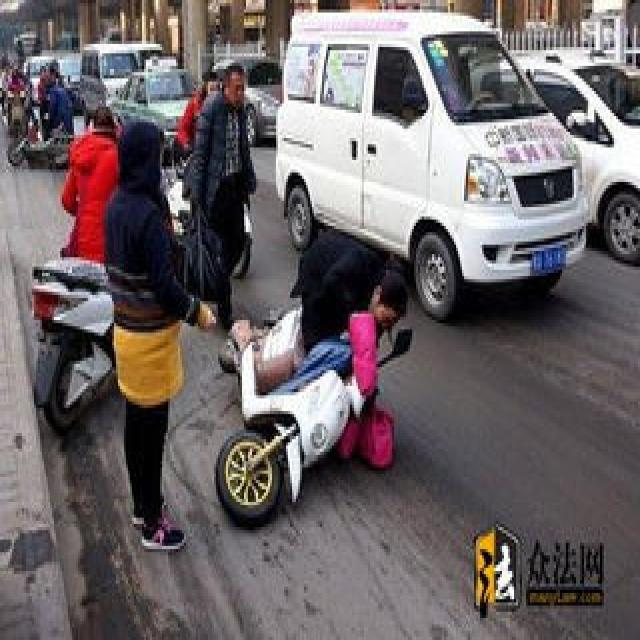10-: (0, 0, 414, 549)
